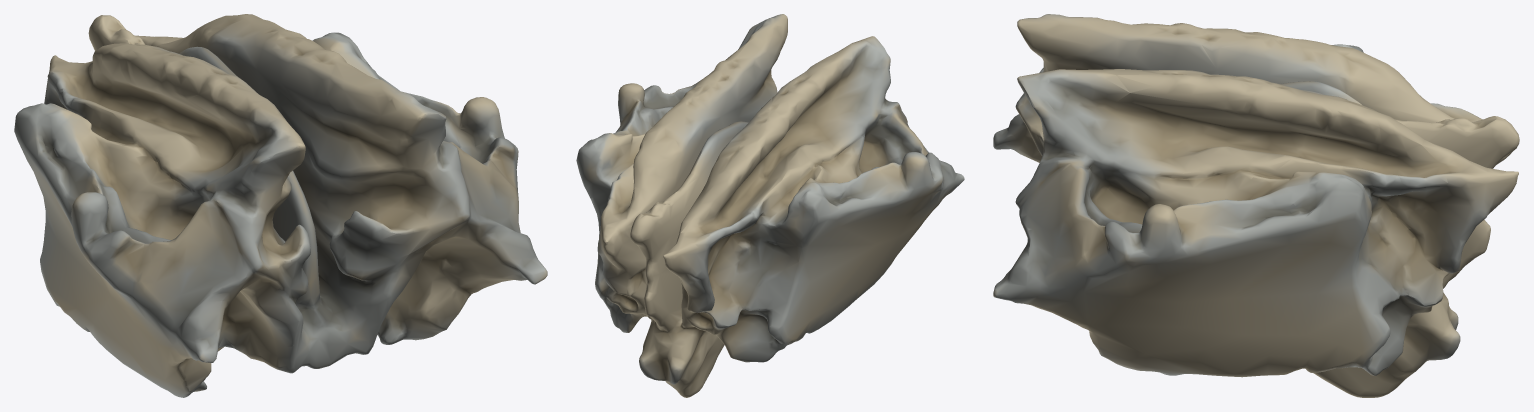
File: os-ethmoidale.glb
3 renders of one model, left to right at view 1: azimuth 30°, elevation 25°; view 2: azimuth 150°, elevation 25°; view 3: azimuth 270°, elevation 25°, orthographic. The views are drawn at different scales.
Parts seen in each view (by area): view 1: FJ3199, os-ethmoidale__lamina-perpendicularis-conchae, os-ethmoidale__labyrinthus-papyracea, os-ethmoidale__crista-galli-lamina-cribrosa; view 2: FJ3199, os-ethmoidale__lamina-perpendicularis-conchae, os-ethmoidale__labyrinthus-papyracea, os-ethmoidale__crista-galli-lamina-cribrosa; view 3: FJ3199, os-ethmoidale__lamina-perpendicularis-conchae, os-ethmoidale__crista-galli-lamina-cribrosa.
Part boxes in pixels (left/top/right/bottom): FJ3199: left=44, top=14, right=547, bottom=382; os-ethmoidale__lamina-perpendicularis-conchae: left=14, top=43, right=291, bottom=280; os-ethmoidale__labyrinthus-papyracea: left=14, top=130, right=213, bottom=384; os-ethmoidale__crista-galli-lamina-cribrosa: left=40, top=261, right=376, bottom=397; FJ3199: left=576, top=14, right=964, bottom=389; os-ethmoidale__lamina-perpendicularis-conchae: left=680, top=44, right=940, bottom=244; os-ethmoidale__labyrinthus-papyracea: left=708, top=151, right=957, bottom=336; os-ethmoidale__crista-galli-lamina-cribrosa: left=639, top=245, right=894, bottom=397; FJ3199: left=993, top=14, right=1519, bottom=390; os-ethmoidale__lamina-perpendicularis-conchae: left=1020, top=17, right=1482, bottom=122; os-ethmoidale__crista-galli-lamina-cribrosa: left=1313, top=305, right=1460, bottom=397.
Bounding box in the file's own units: 41.71 × 35.06 × 47.38.
